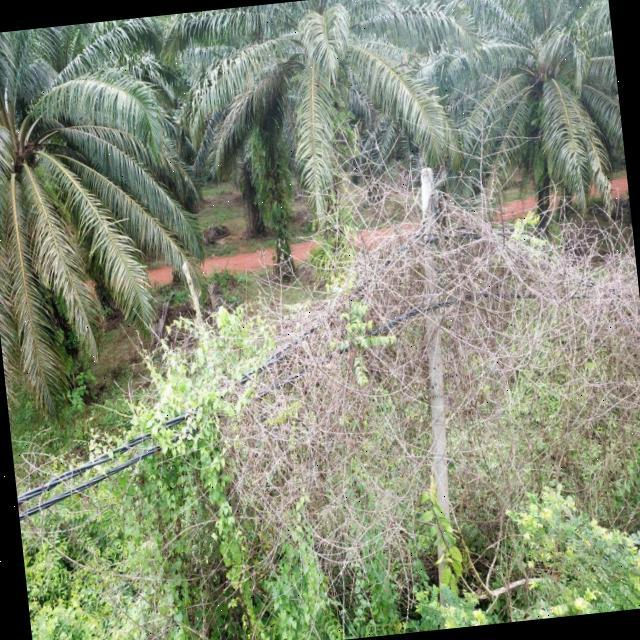critical vegetation: (79, 146, 640, 547)
